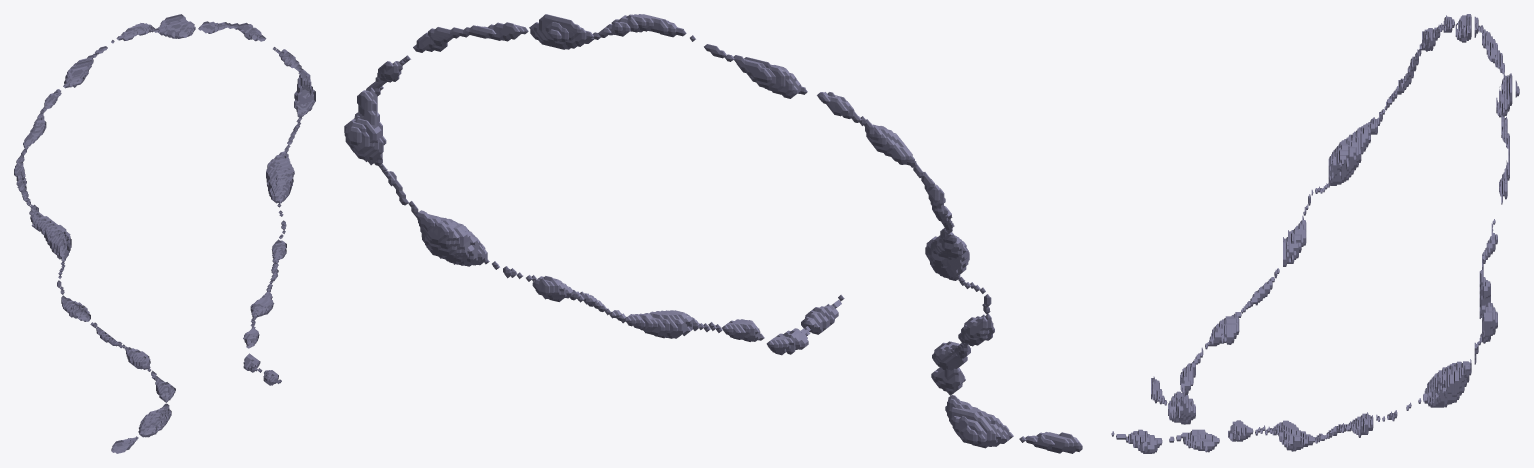
Rendered from SVV_AVBL.gltf.
3 views of the same model, side by side, from view 1: azimuth 30°, elevation 25°; view 2: azimuth 150°, elevation 25°; view 3: azimuth 270°, elevation 25° (orthographic). The views are drawn at different scales.
Visible parts, largest first — view 1: AVBL; view 2: AVBL; view 3: AVBL.
Boxes of the visible parts, x1,y1,x2,y2 form: AVBL: [14, 14, 315, 453]; AVBL: [344, 14, 1082, 453]; AVBL: [1111, 14, 1519, 453].
Bounding box in the file's own units: 88109 × 79931 × 65425.
